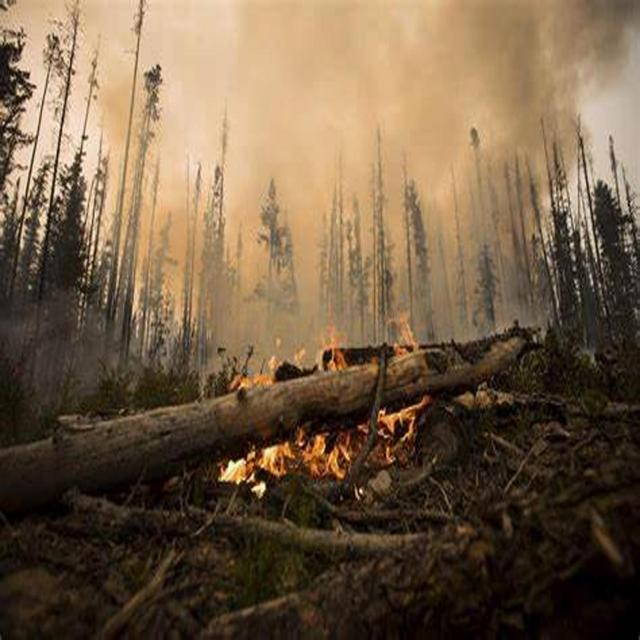fire: (230, 442, 300, 490), (314, 316, 351, 373), (234, 363, 289, 388)
smoke: (163, 42, 515, 308)
